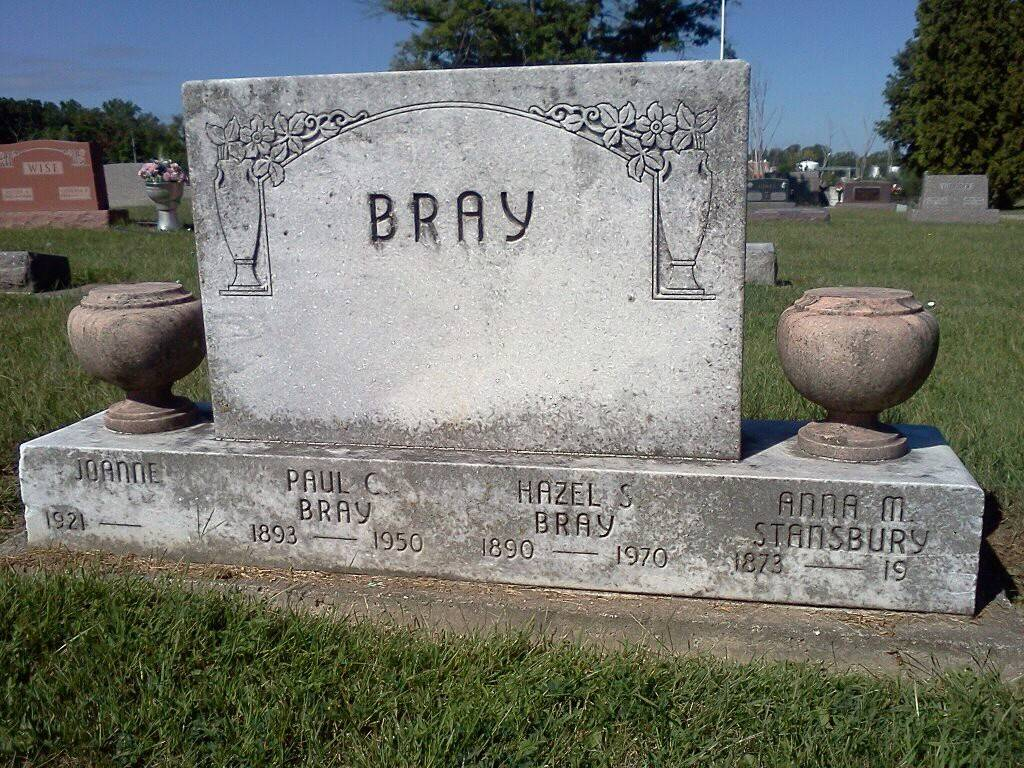upright: (11, 8, 1024, 694)
